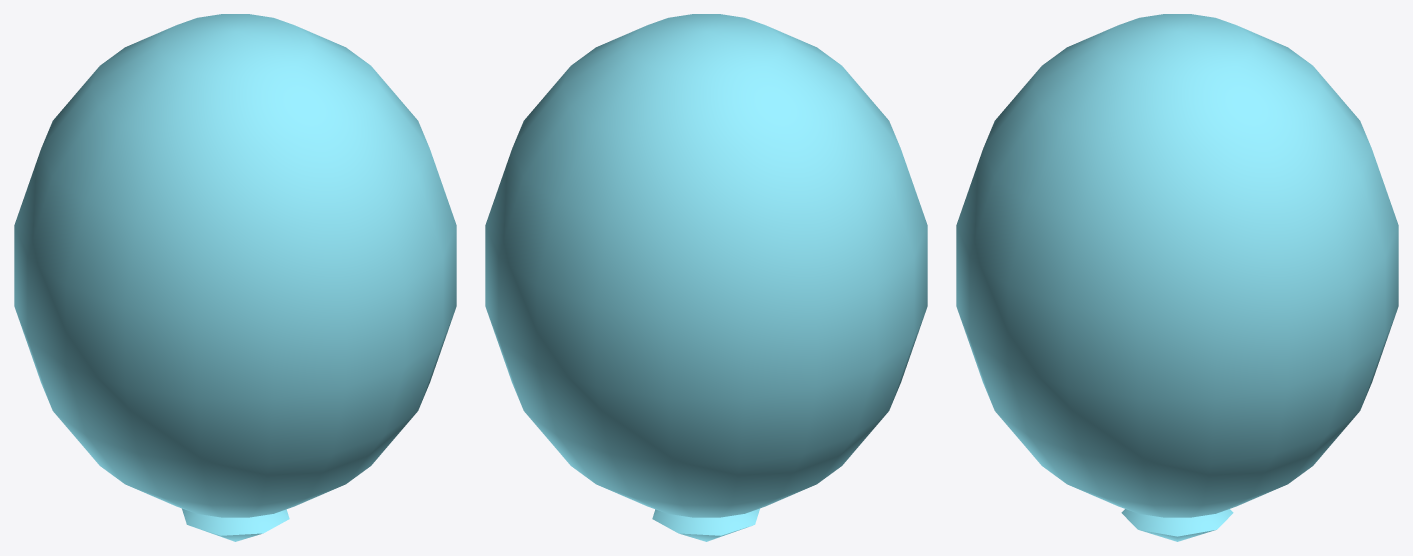
The model's file is ITEM_WaterBalloon.fbx.
3 renders of one model, left to right at view 1: azimuth 30°, elevation 25°; view 2: azimuth 150°, elevation 25°; view 3: azimuth 270°, elevation 25°, orthographic.
Visible parts, largest first — view 1: ITEM_WaterBalloon; view 2: ITEM_WaterBalloon; view 3: ITEM_WaterBalloon.
Boxes of the visible parts, x1,y1,x2,y2 form: ITEM_WaterBalloon: [14, 14, 456, 541]; ITEM_WaterBalloon: [485, 14, 927, 541]; ITEM_WaterBalloon: [956, 14, 1398, 541].
Size of the model in its own units: 0.2716 by 0.351 by 0.2757.
